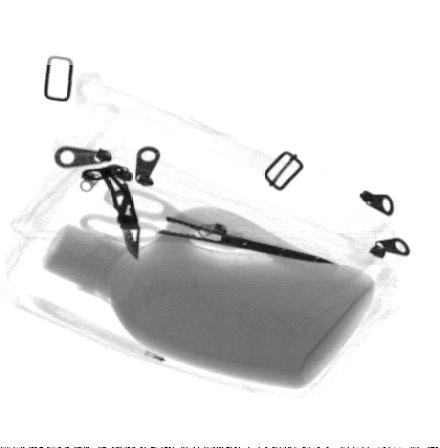Knife: (98, 166, 140, 261)
Scissors: (76, 188, 336, 263)
